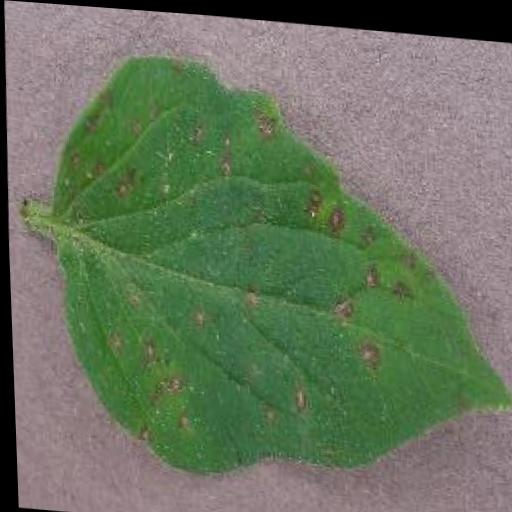Septoria: (44, 45, 512, 501)
